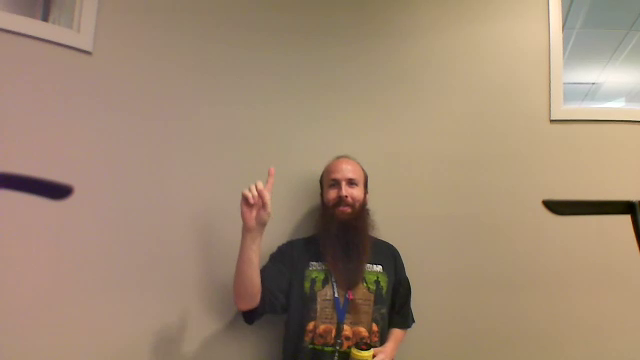up: (234, 164, 281, 241)
